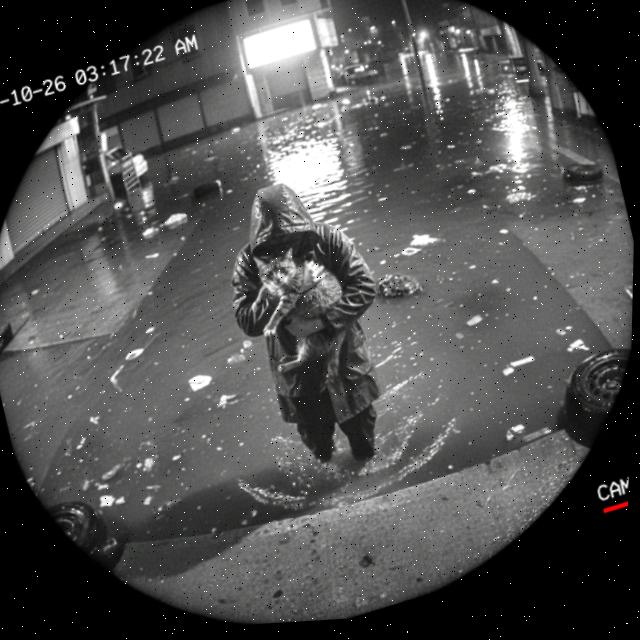cat: (231, 224, 380, 414)
civilian: (199, 149, 424, 505)
